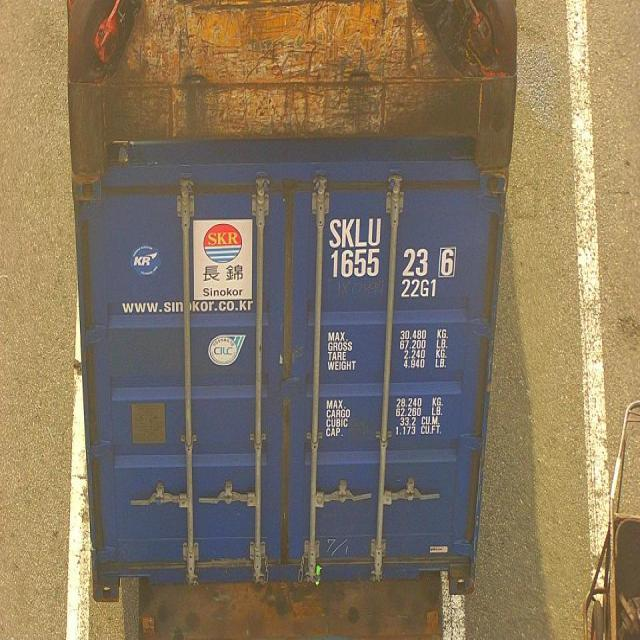ISO: (400, 278, 440, 300)
container_number: (332, 220, 452, 278)
